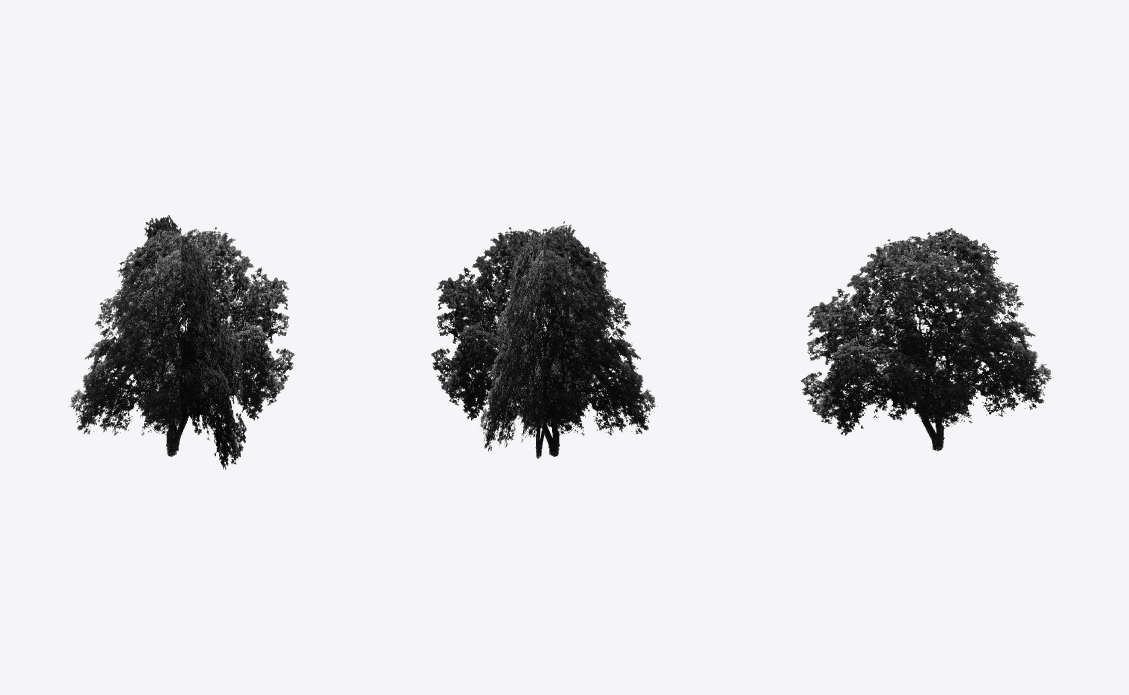
The model's file is tree.glb.
3 views of the same model, side by side, from view 1: azimuth 30°, elevation 25°; view 2: azimuth 150°, elevation 25°; view 3: azimuth 270°, elevation 25° (orthographic). The views are drawn at different scales.
Visible parts, largest first — view 1: tree, tree.001; view 2: tree, tree.001; view 3: tree.001.
Part boxes in pixels (x1,y1,x2,y2): tree: [68, 227, 294, 456]; tree.001: [117, 215, 246, 469]; tree: [431, 227, 657, 456]; tree.001: [479, 221, 609, 458]; tree.001: [801, 228, 1053, 451].
Bounding box in the file's own units: 0.6667 × 1 × 0.6667.
Materials: 2 (2 with a texture image).
